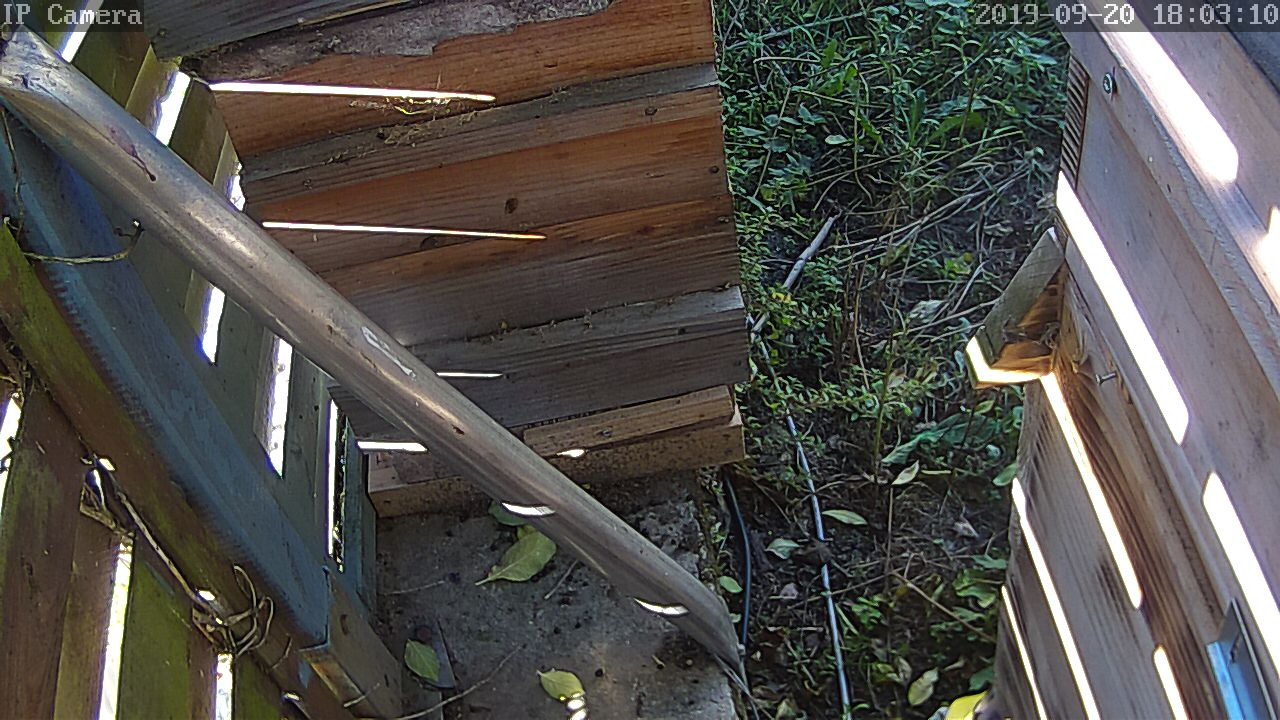hornet: (91, 0, 1246, 720), (507, 7, 1249, 639)
